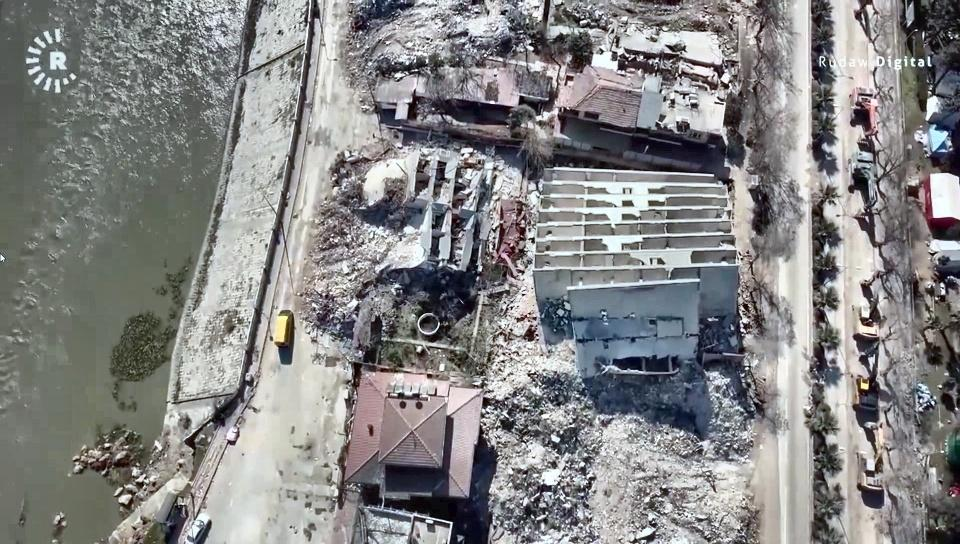kapali: (265, 134, 387, 360), (309, 0, 406, 128)
